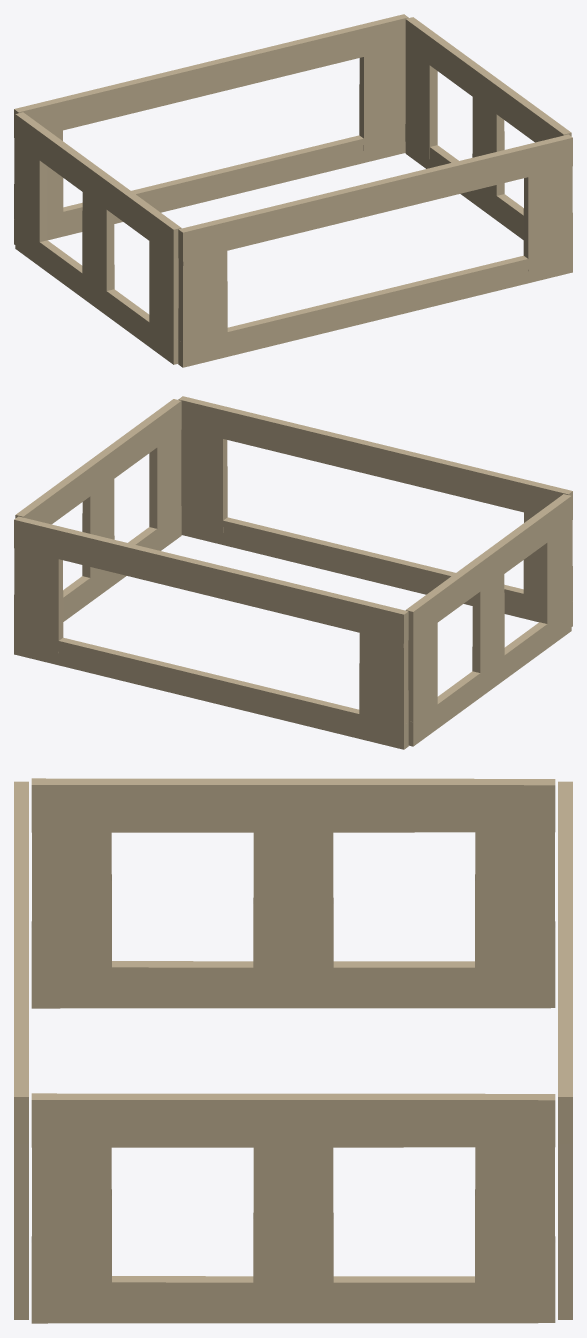
File: story_wall.glb
3 views of the same model, one above another, from view 1: azimuth 30°, elevation 25°; view 2: azimuth 150°, elevation 25°; view 3: azimuth 270°, elevation 25° (orthographic). The views are drawn at different scales.
Visible parts, largest first — view 1: WB002V2_FacadeBand.001; view 2: WB002V2_FacadeBand.001; view 3: WB002V2_FacadeBand.001.
Part boxes in pixels (x1,y1,x2,y2): WB002V2_FacadeBand.001: (14, 14, 572, 367); WB002V2_FacadeBand.001: (14, 396, 572, 749); WB002V2_FacadeBand.001: (14, 778, 572, 1323).
Size of the model in its own units: 15.1 by 4.9 by 11.1.
